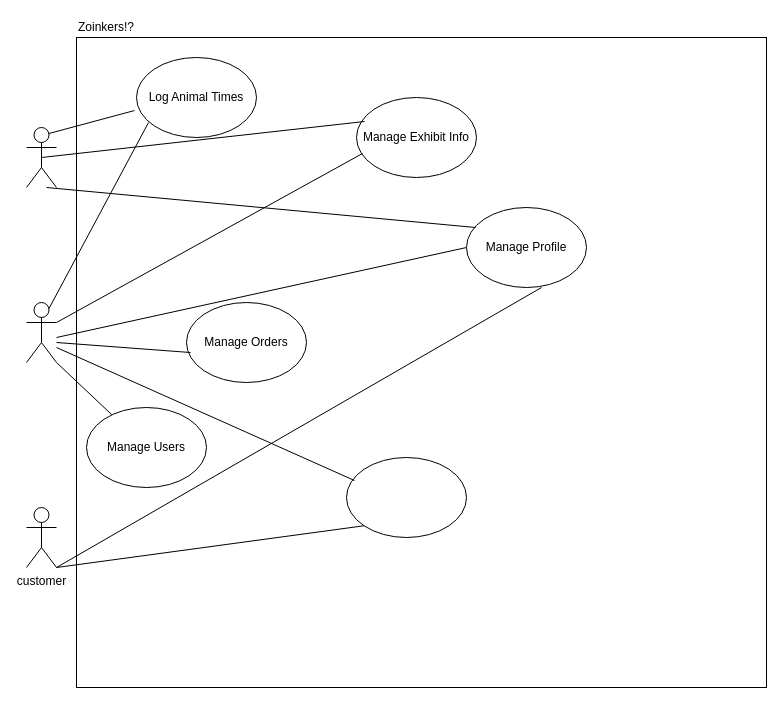
Some shapes in this 784 by 705 pixel diagram are drawn without their labels. Each missing label, with the centre of its shape:
Keeper: the point at 41,157
Manager: the point at 41,332
Order Plan: the point at 406,497
